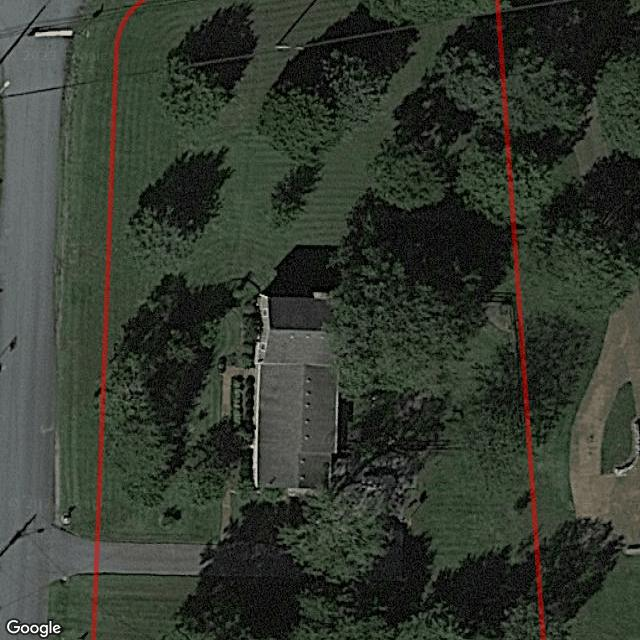Driveway: (100, 542, 202, 574)
Extra Driveway: (56, 532, 92, 578)
Extra Lawn: (55, 16, 122, 536), (49, 575, 91, 639)
House: (252, 295, 337, 492)
